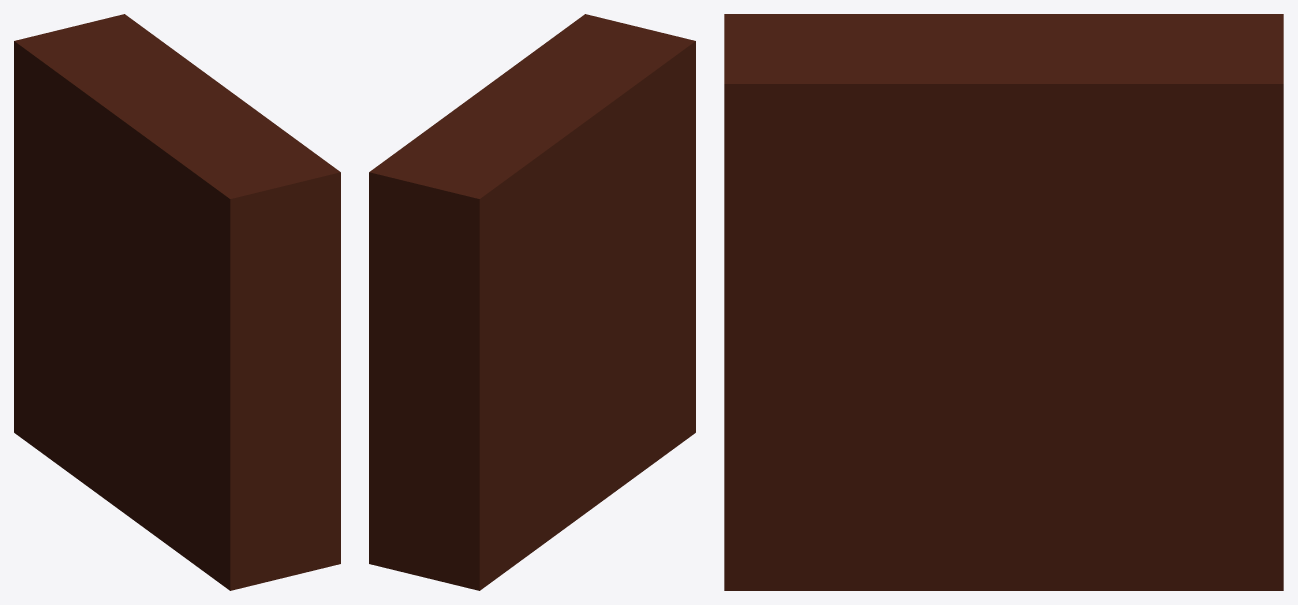
Rendered from Plays_for_Towers_ill.fbx.
The picture shows the model from 3 angles, left to right: view 1: azimuth 30°, elevation 25°; view 2: azimuth 150°, elevation 25°; view 3: azimuth 270°, elevation 25°; orthographic projection. The views are drawn at different scales.
Parts seen in each view (by area): view 1: Cube.007; view 2: Cube.007; view 3: Cube.007.
Boxes of the visible parts, bbox=[...] form: Cube.007: bbox=[14, 14, 340, 590]; Cube.007: bbox=[369, 14, 695, 590]; Cube.007: bbox=[724, 14, 1283, 590].
Size of the model in its own units: 400 by 400 by 118.
